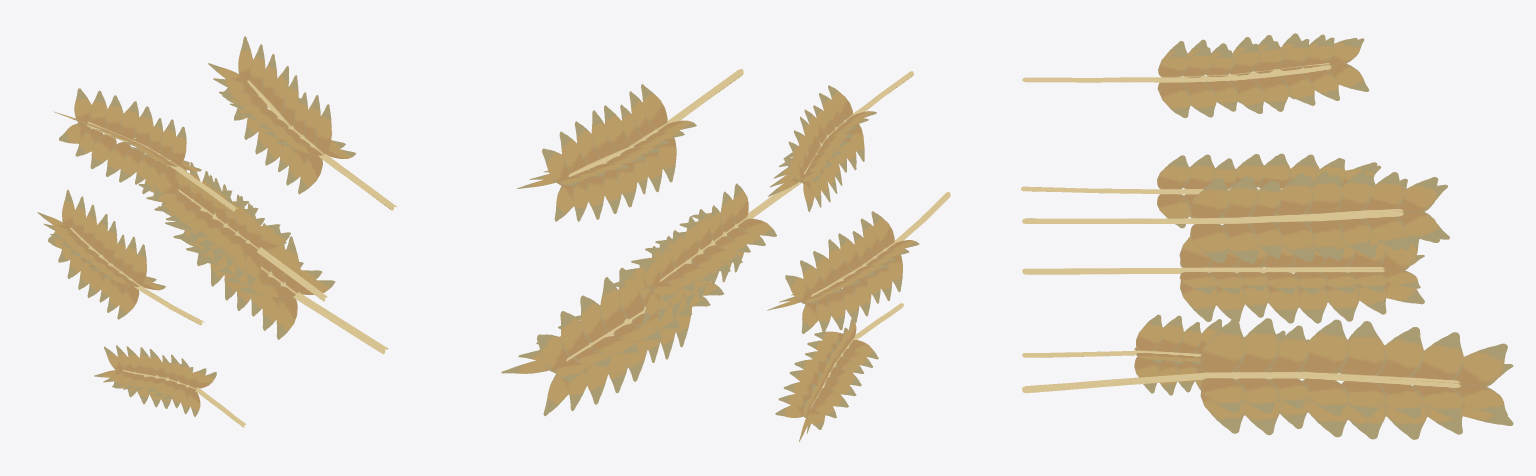
The model's file is Wheat.fbx.
3 views of the same model, side by side, from view 1: azimuth 30°, elevation 25°; view 2: azimuth 150°, elevation 25°; view 3: azimuth 270°, elevation 25° (orthographic). The views are drawn at different scales.
Parts seen in each view (by area): view 1: Wheat; view 2: Wheat; view 3: Wheat.
Part boxes in pixels (x1,y1,x2,y2): Wheat: (37,36,396,427); Wheat: (501,69,950,441); Wheat: (1021,33,1513,439).
Size of the model in its own units: 1035 by 1052 by 1228.
